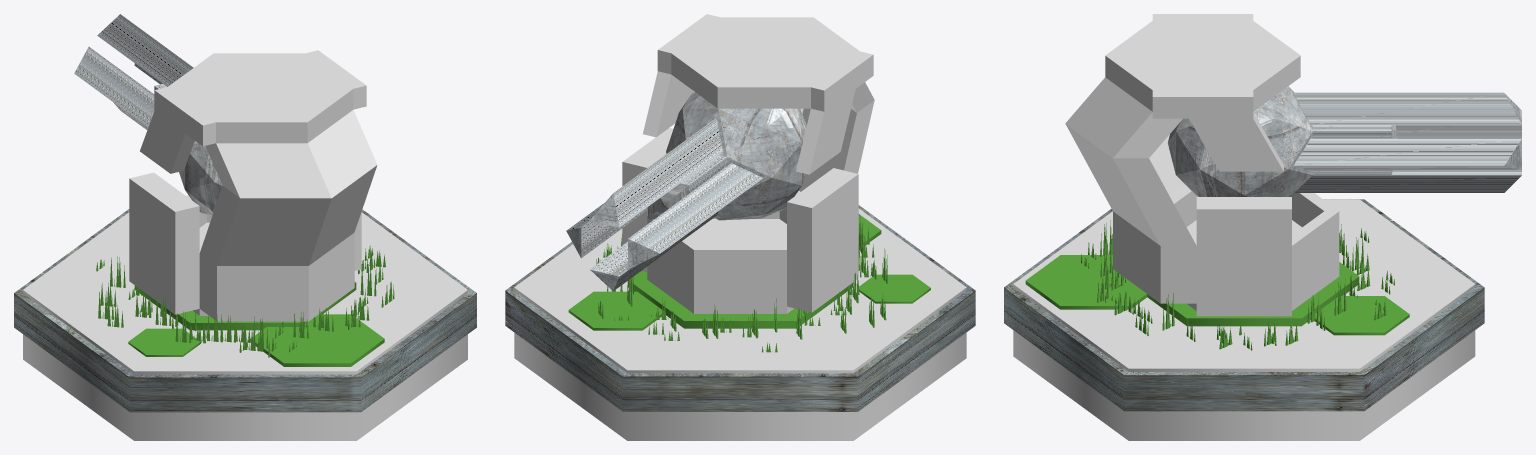
File: turretLv2.fbx
3 views of the same model, side by side, from view 1: azimuth 30°, elevation 25°; view 2: azimuth 150°, elevation 25°; view 3: azimuth 270°, elevation 25° (orthographic). The views are drawn at different scales.
Parts seen in each view (by area): view 1: Cylinder, Cylinder_4, Sphere; view 2: Cylinder, Cylinder_4, Sphere; view 3: Cylinder, Cylinder_4, Sphere.
Part boxes in pixels (left/top/right/bottom): Cylinder: left=14, top=209, right=476, bottom=440; Cylinder_4: left=129, top=50, right=377, bottom=321; Sphere: left=74, top=14, right=222, bottom=216; Cylinder: left=505, top=205, right=975, bottom=440; Cylinder_4: left=622, top=14, right=874, bottom=313; Sphere: left=566, top=91, right=806, bottom=291; Cylinder: left=1004, top=199, right=1484, bottom=440; Cylinder_4: left=1065, top=14, right=1339, bottom=316; Sphere: left=1168, top=86, right=1521, bottom=196.
Size of the model in its own units: 380 by 301 by 473.
Materials: 4 (2 with a texture image).
